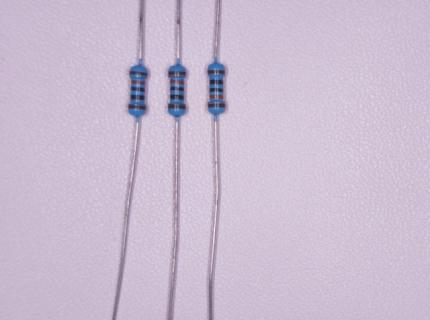Black band: (170, 86, 184, 92), (209, 79, 223, 84), (170, 95, 184, 100), (130, 95, 144, 100), (131, 87, 145, 92), (209, 88, 223, 92)
Brown band: (129, 71, 148, 76), (128, 104, 146, 109), (168, 104, 185, 109), (207, 104, 225, 108), (168, 71, 186, 75), (208, 70, 226, 74)
Orange band: (131, 80, 145, 84), (170, 80, 184, 84), (209, 95, 223, 99)
